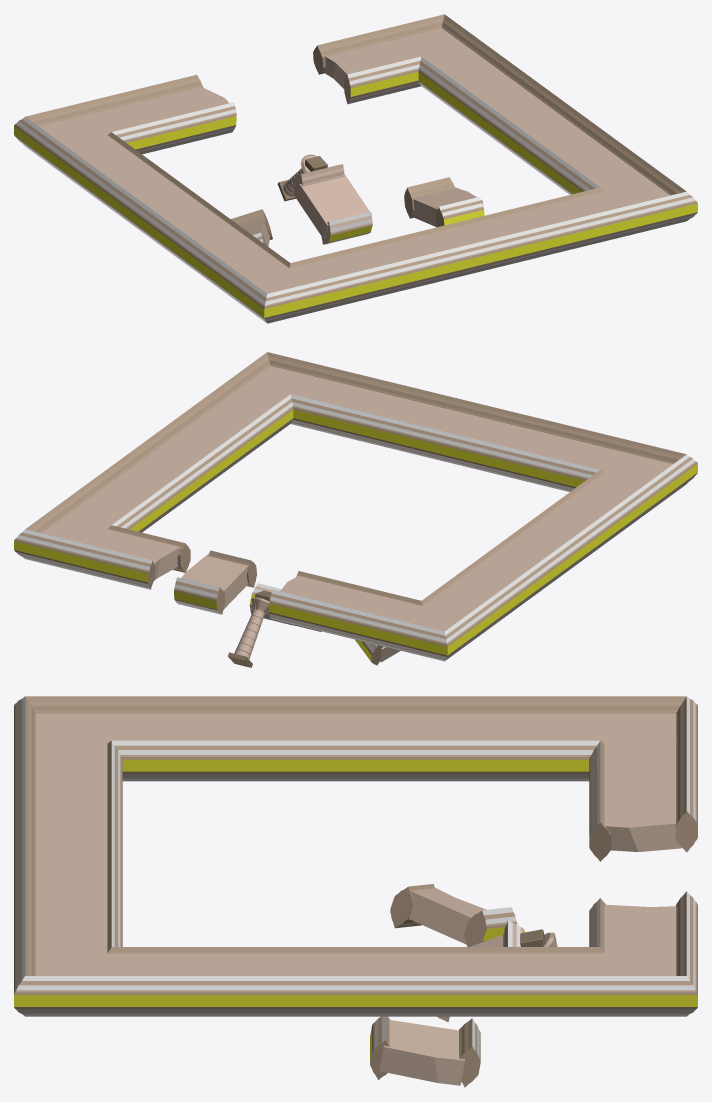
Rendered from cloister.fbx.
3 renders of one model, top to bottom at view 1: azimuth 30°, elevation 25°; view 2: azimuth 150°, elevation 25°; view 3: azimuth 270°, elevation 25°, orthographic. The views are drawn at different scales.
Parts seen in each view (by area): view 1: cloister_roof_cornices, cloister_roof, cloister_roof.001, cloister_roof_cornices_frag2, cloister_roof_cornices_frag1; view 2: cloister_roof_cornices, cloister_roof, cloister_roof_cornices_frag2, cloister_fallen_pillar, cloister_roof_cornices_frag1; view 3: cloister_roof_cornices, cloister_roof, cloister_roof_cornices_frag2, cloister_roof_cornices_frag1, cloister_roof.001.
Boxes of the visible parts, x1,y1,x2,y2 form: cloister_roof_cornices: (14,14,697,323); cloister_roof: (39,28,670,293); cloister_roof.001: (293,164,372,244); cloister_roof_cornices_frag2: (404,177,484,227); cloister_roof_cornices_frag1: (231,209,272,246); cloister_roof_cornices: (14,352,697,661); cloister_roof: (41,365,672,631); cloister_roof_cornices_frag2: (174,550,256,614); cloister_fallen_pillar: (227,597,269,667); cloister_roof_cornices_frag1: (355,639,400,665); cloister_roof_cornices: (14,696,697,1016); cloister_roof: (35,713,681,975); cloister_roof_cornices_frag2: (370,1016,480,1087); cloister_roof_cornices_frag1: (390,884,517,946); cloister_roof.001: (437,920,524,1022).
Size of the model in its own units: 484 by 484 by 126.
